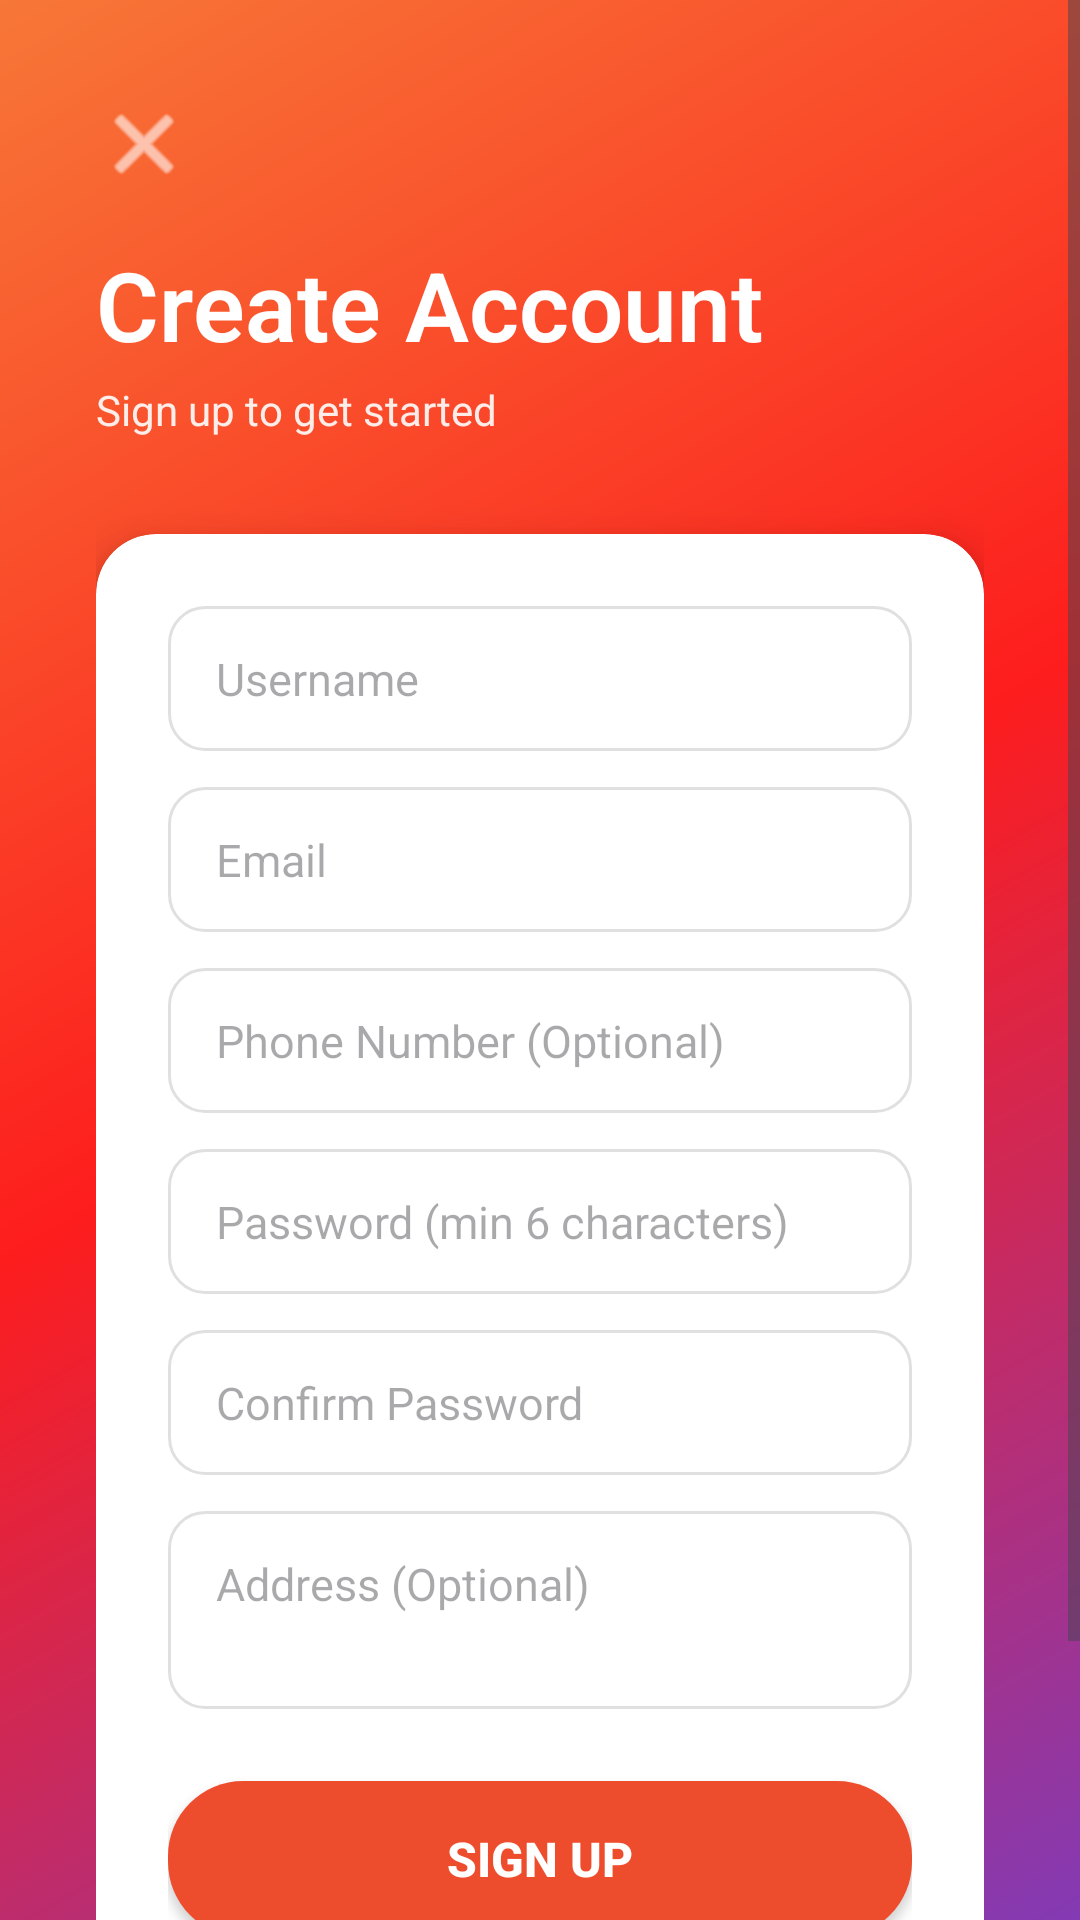

Icon bounding boxes for this 1080×1920 phone screenshot, format (x1, y1, x2, y2):
Back: (114, 114, 174, 174)
